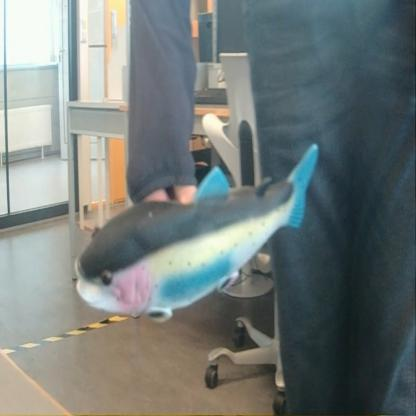rubberfish: (70, 135, 324, 331)
